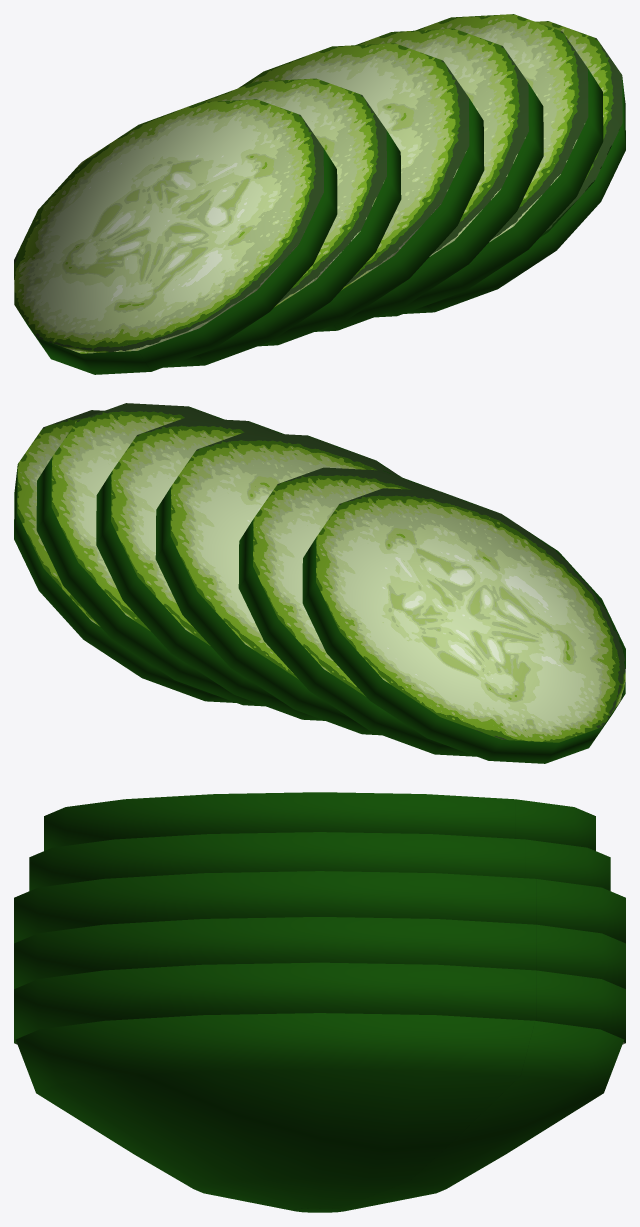
The model's file is CucumberSliced.fbx.
3 renders of one model, top to bottom at view 1: azimuth 30°, elevation 25°; view 2: azimuth 150°, elevation 25°; view 3: azimuth 270°, elevation 25°, orthographic. The views are drawn at different scales.
Parts seen in each view (by area): view 1: CucumberSliced; view 2: CucumberSliced; view 3: CucumberSliced.
Boxes of the visible parts, bbox=[...] form: CucumberSliced: bbox=[14, 14, 625, 374]; CucumberSliced: bbox=[14, 403, 625, 763]; CucumberSliced: bbox=[14, 792, 625, 1212].
Size of the model in its own units: 72.63 by 26.33 by 43.32.
1 material, 1 textured.
